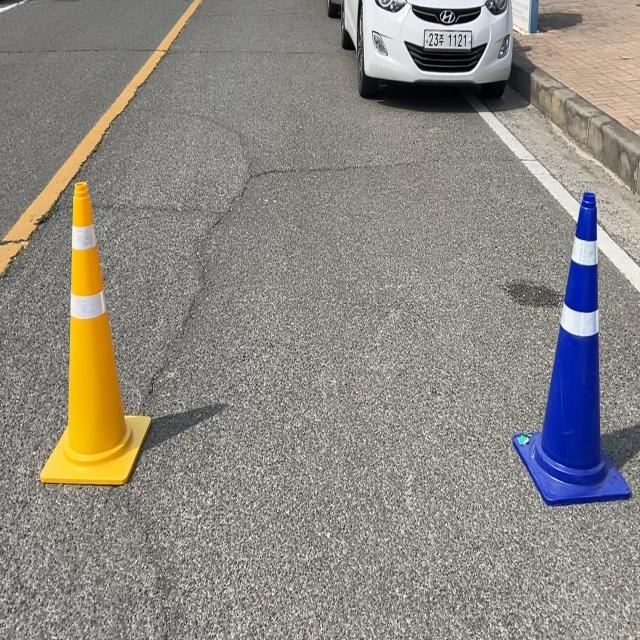b_rub: (513, 191, 632, 505)
y_rub: (39, 181, 151, 484)
